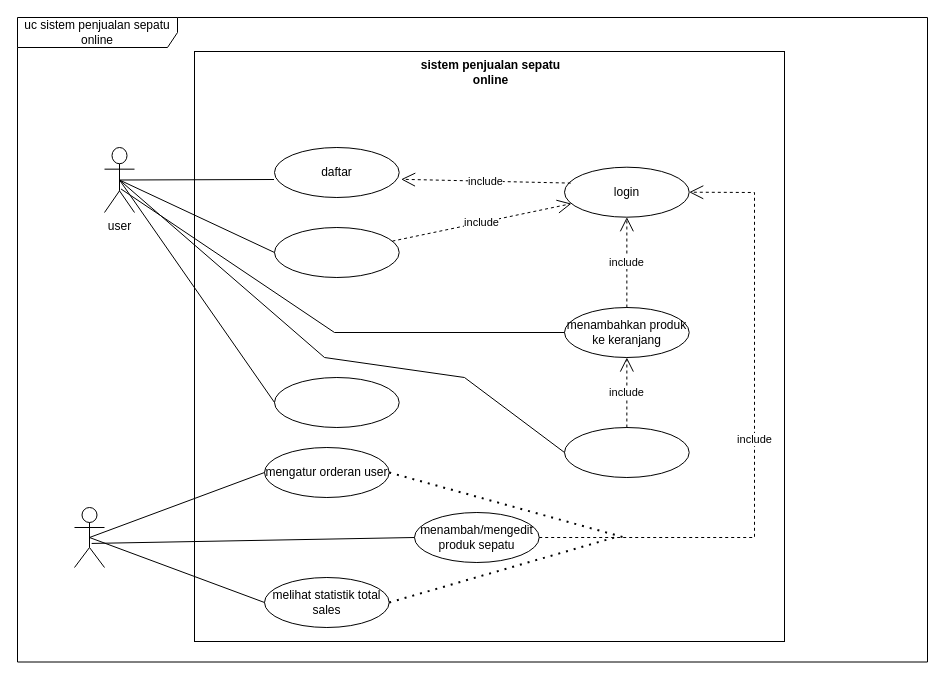
Some shapes in this 945 by 680 pixel diagram are drawn without their labels. Each missing label, with the centre of its shape:
"Admin" belongs at [89,537].
"checkout" belongs at [626,452].
"melihat produk sepatu" belongs at [336,402].
"menambahkan sepatu ke menu favorit" belongs at [336,252].
